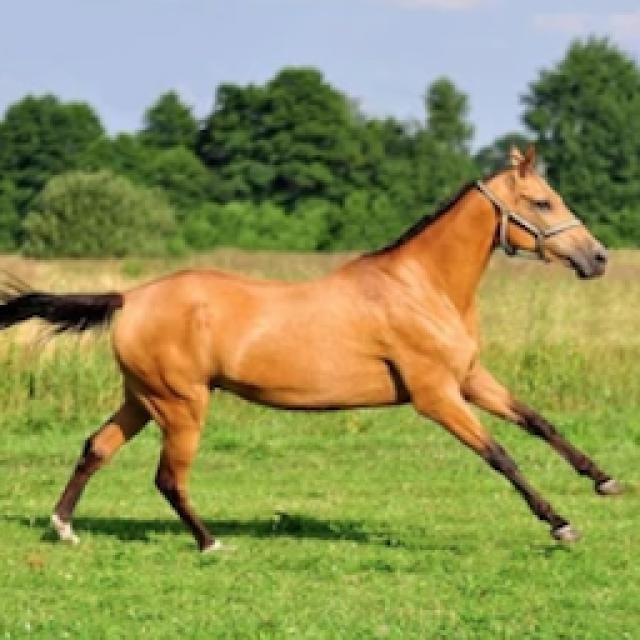Horse: (0, 137, 632, 560)
